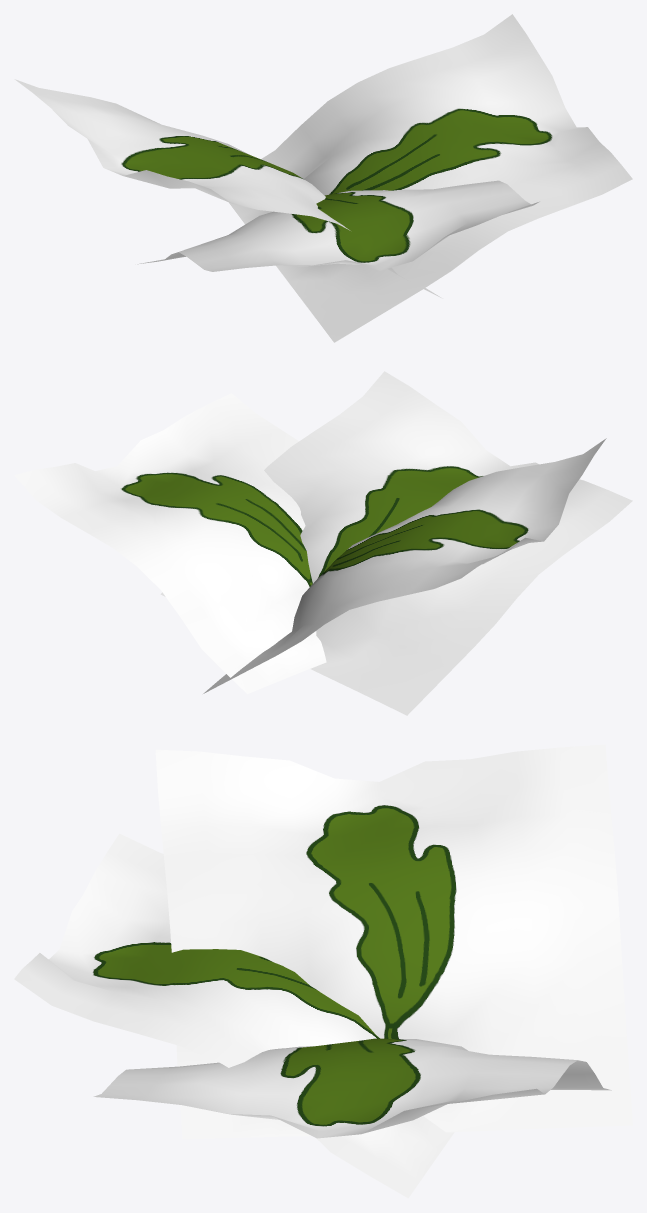
File: leafss.fbx
3 views of the same model, one above another, from view 1: azimuth 30°, elevation 25°; view 2: azimuth 150°, elevation 25°; view 3: azimuth 270°, elevation 25° (orthographic). The views are drawn at different scales.
Parts seen in each view (by area): view 1: leaf2, pPlane2, pPlane1; view 2: pPlane2, leaf2, pPlane1; view 3: pPlane1, pPlane2, leaf2.
Part boxes in pixels (x1,y1,x2,y2): leaf2: (229,14,632,342); pPlane2: (137,180,539,271); pPlane1: (14,79,442,298); pPlane2: (160,371,632,715); leaf2: (14,393,326,693); pPlane1: (203,438,606,693); pPlane1: (155,744,632,1139); pPlane2: (14,833,454,1198); leaf2: (93,1038,611,1138).
Bounding box in the file's own units: 23.49 × 9.1 × 20.27.
Materials: 1 (1 with a texture image).
